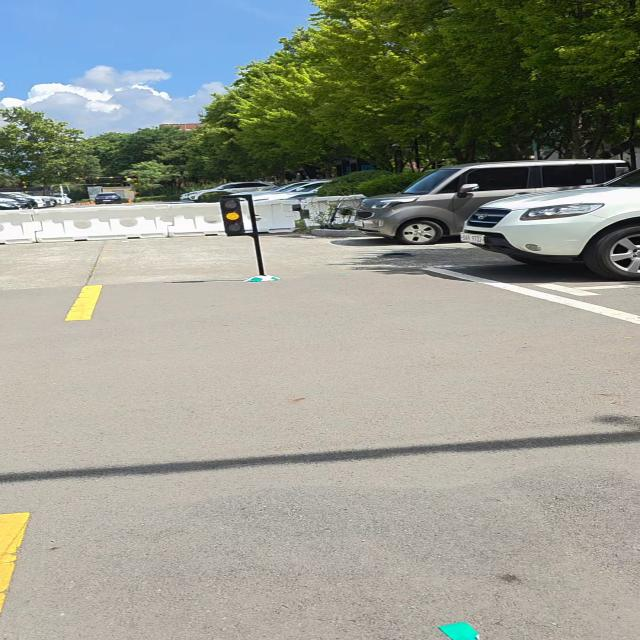yellow: (218, 197, 247, 236)
